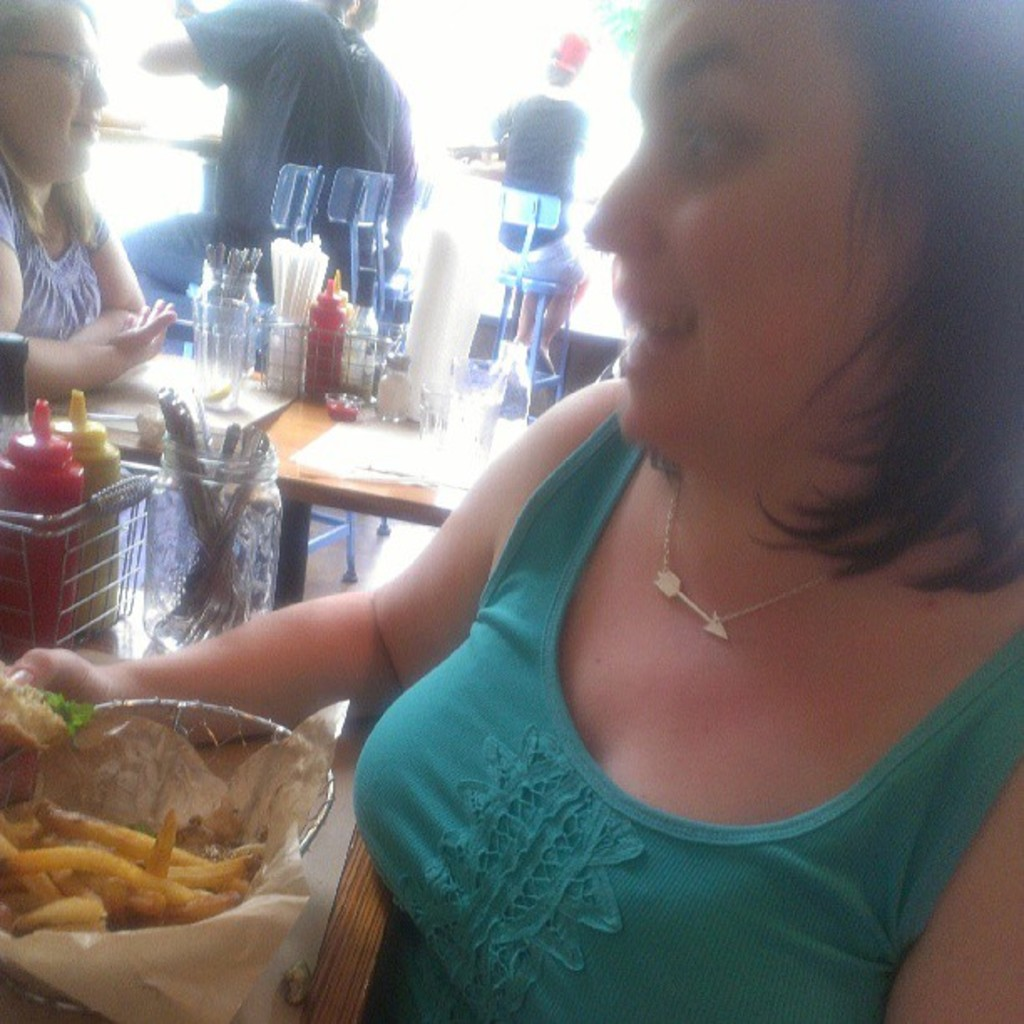French fries: (11, 771, 326, 975)
